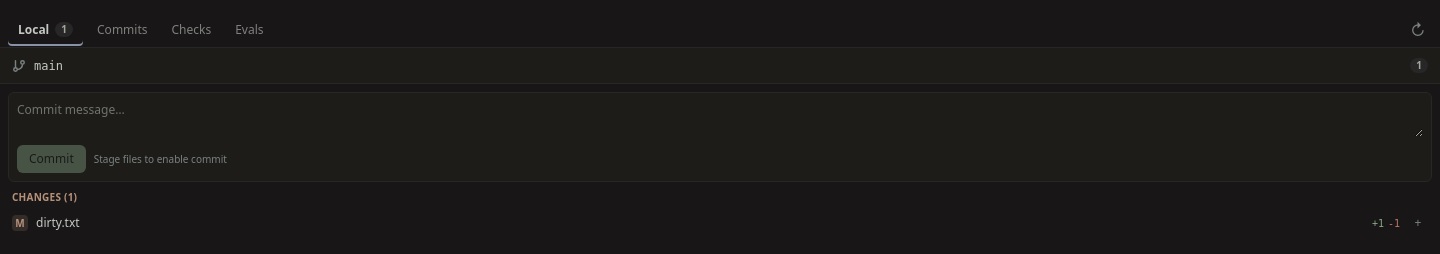
Test: SidebarDiffPanel tabs › without prUrl the Commits tab round-trips to Files and syncs the URL
Click the tab with test id "sidebar-tab-commits".
click(122, 30)  # box [87,14,158,46]
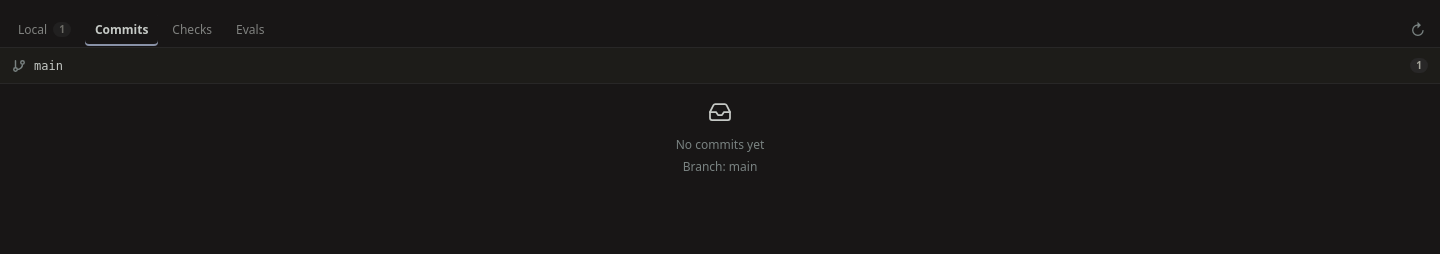
Click the tab with test id "sidebar-tab-files".
click(44, 30)  # box [8,14,81,46]
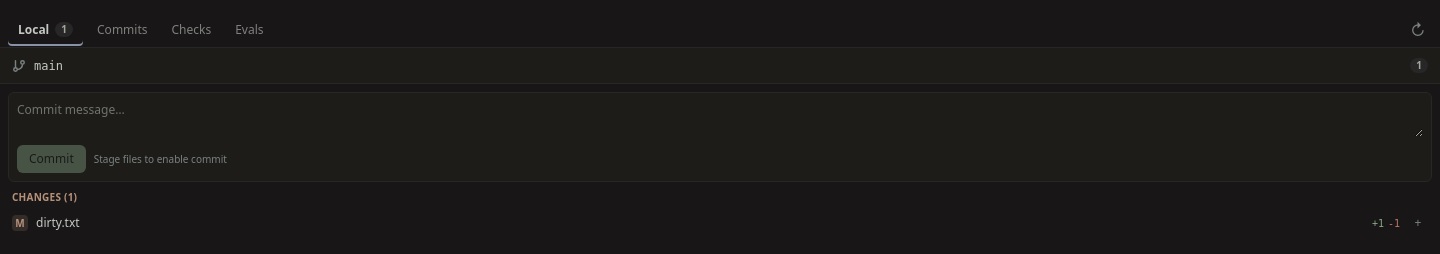
Now the button with test id "sidebar-diff-file-unstaged-dirty.txt" is shown, box [0,209,1439,237]
